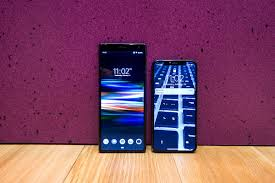sony: (96, 39, 148, 156), (153, 56, 198, 156)
